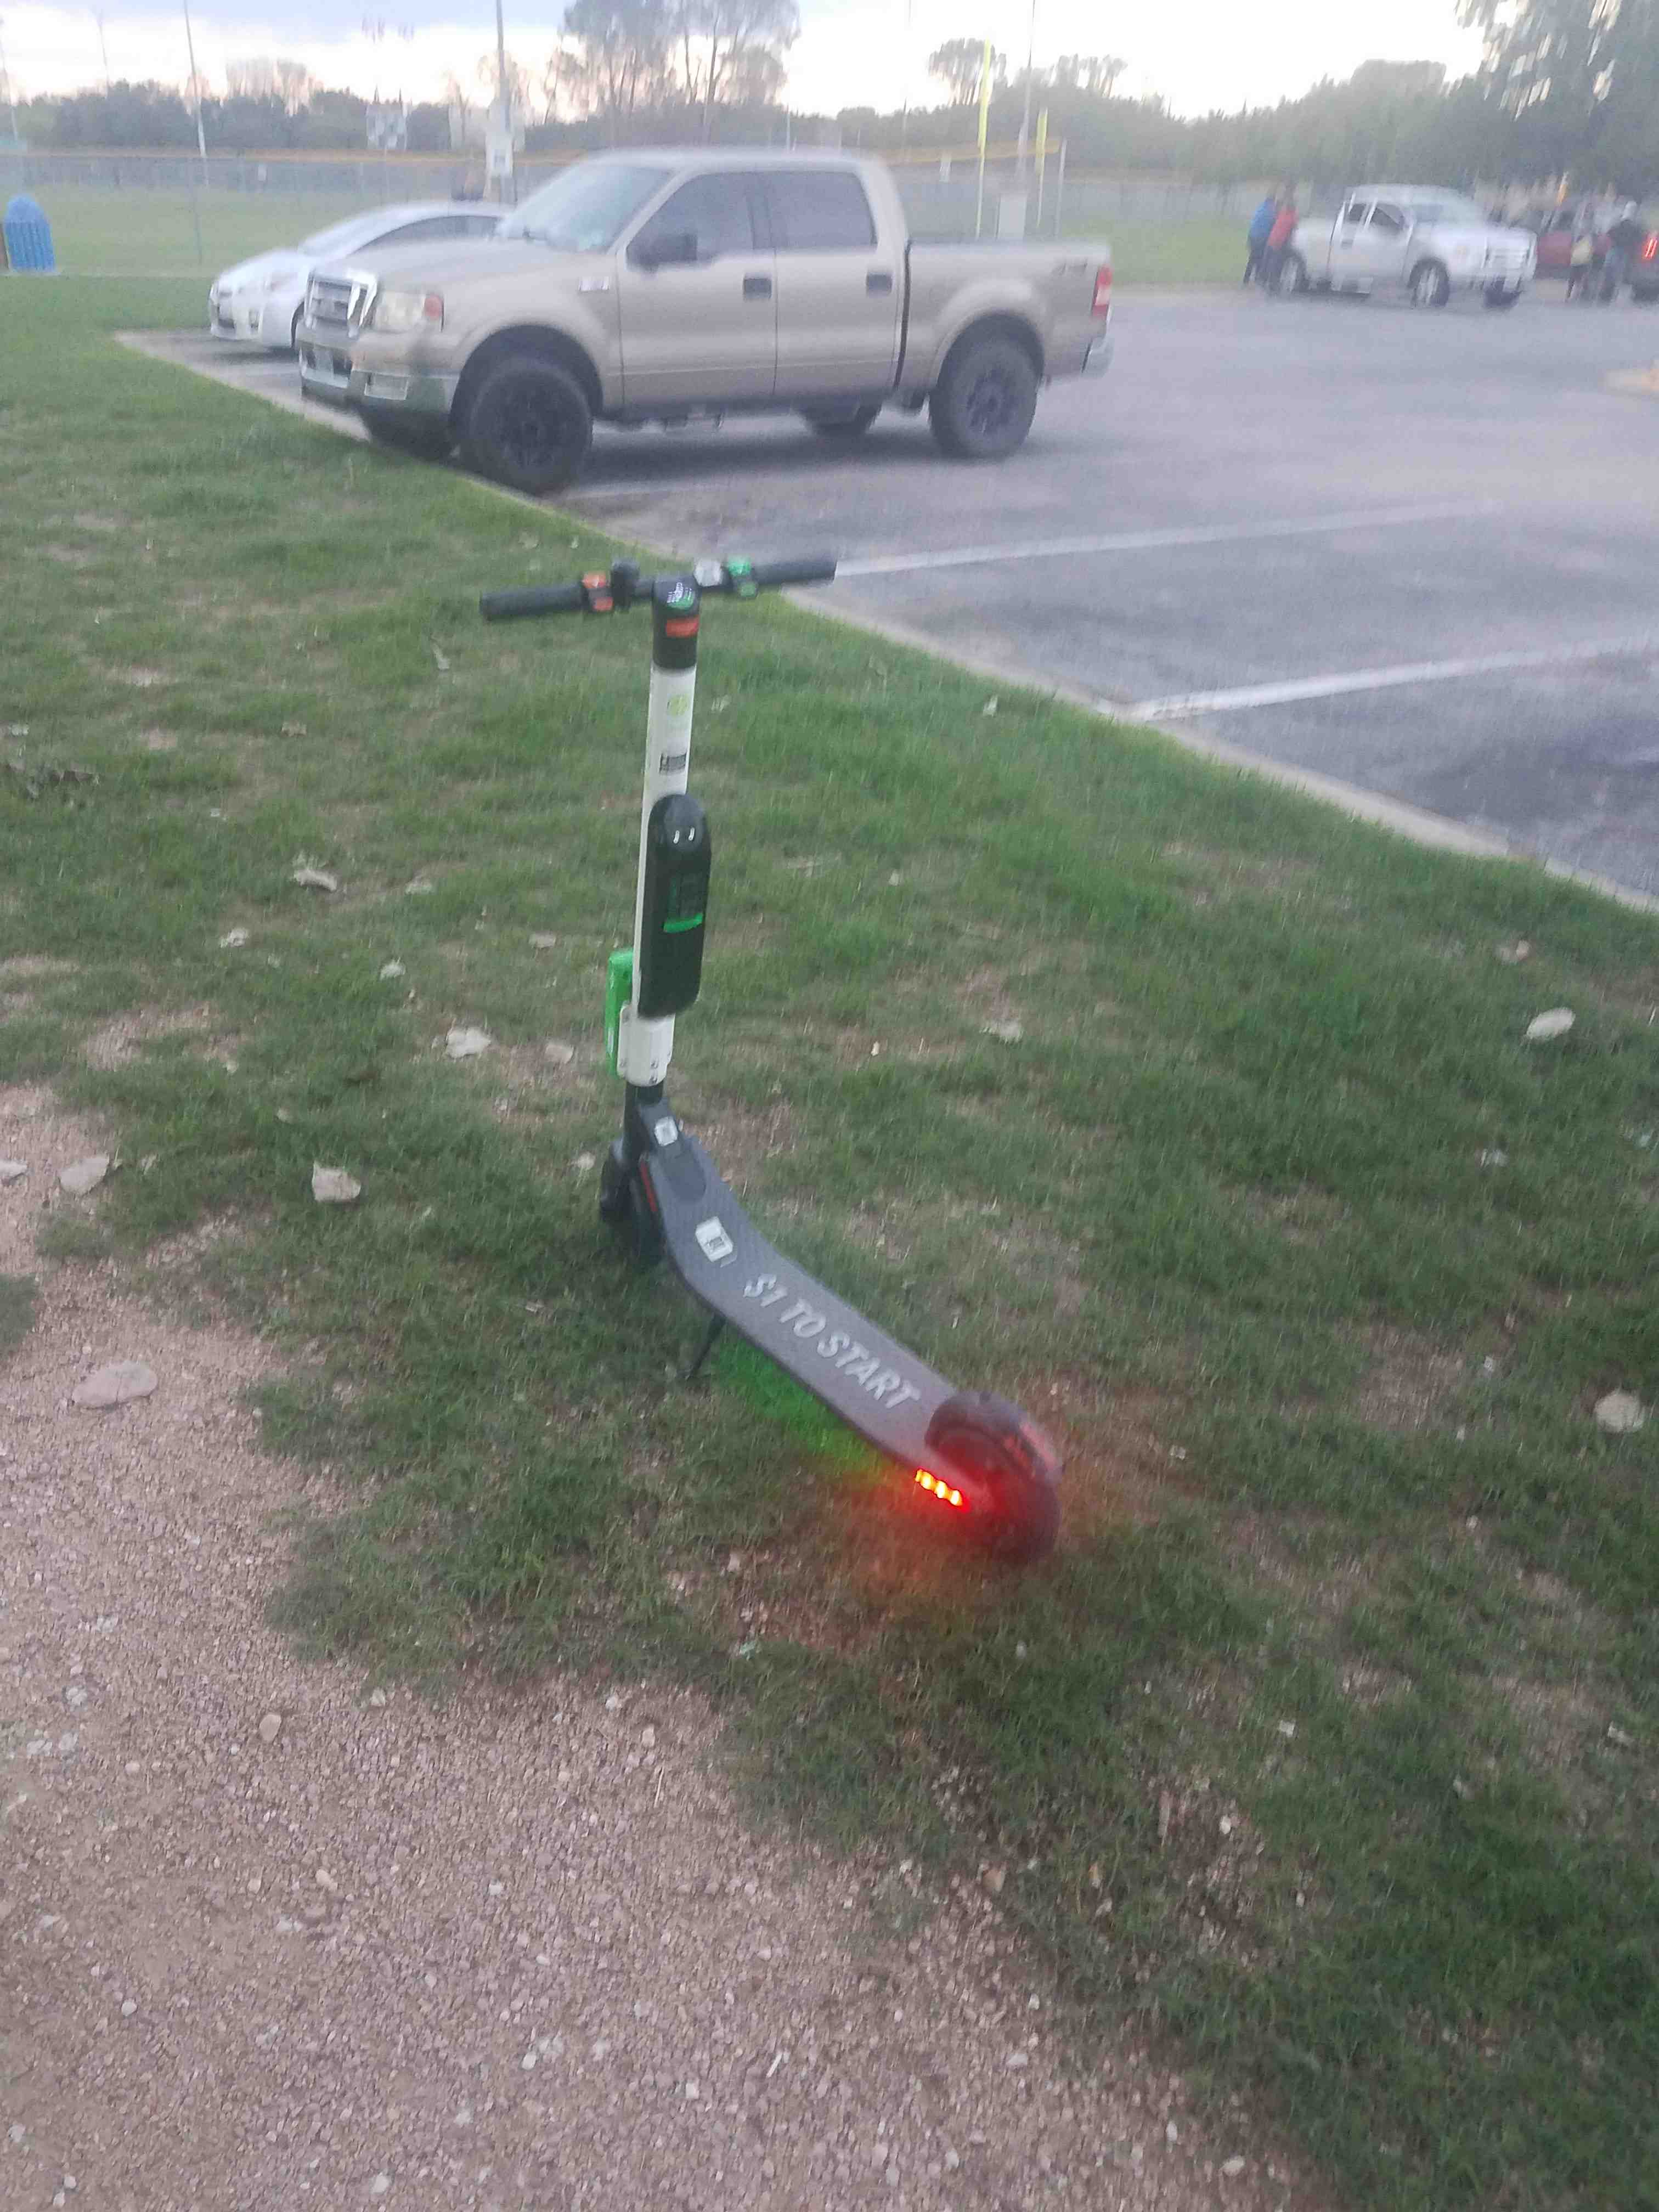scooter: (471, 456, 1080, 1620)
